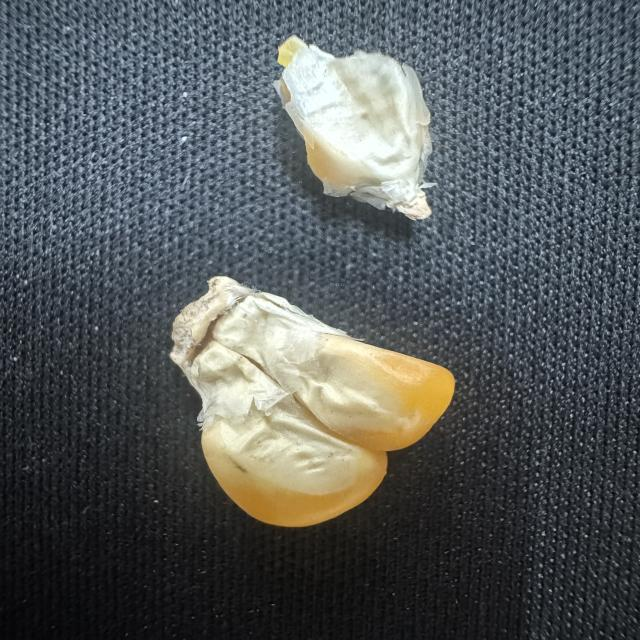Bad-Seed: (146, 273, 462, 541), (267, 25, 470, 236)
